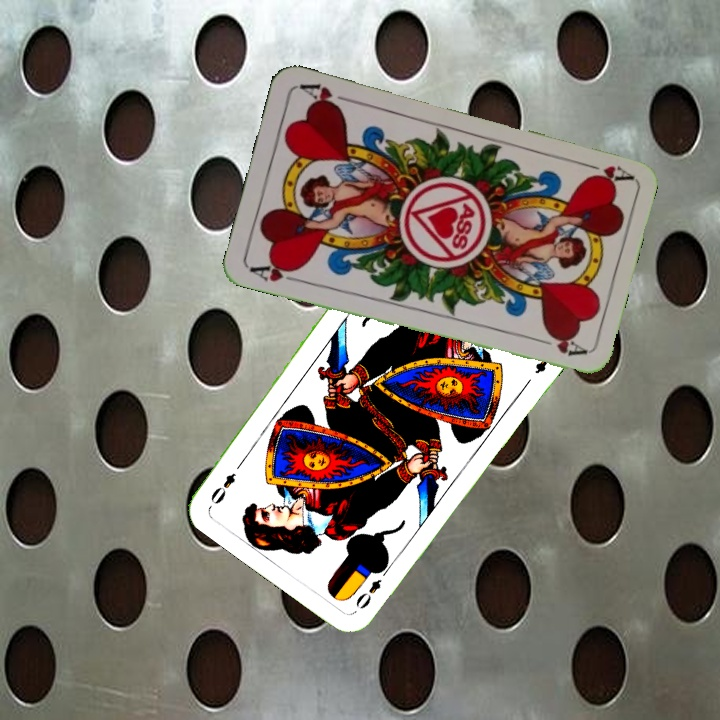EO: (351, 562, 393, 612)
HA: (246, 257, 305, 286), (575, 157, 634, 185)
